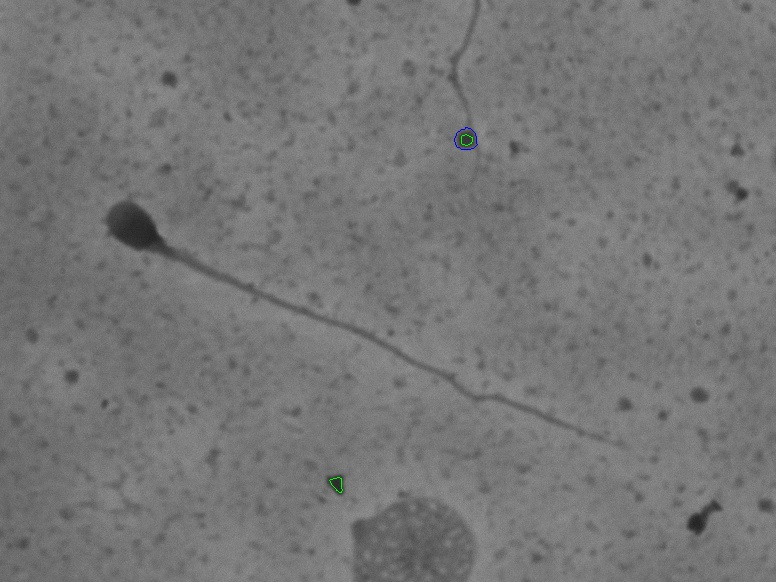Normal: (83, 168, 652, 473)
